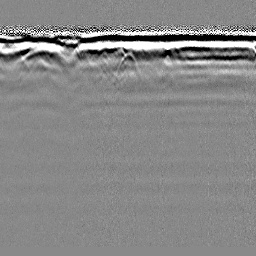cavity: (114, 51, 142, 80)
